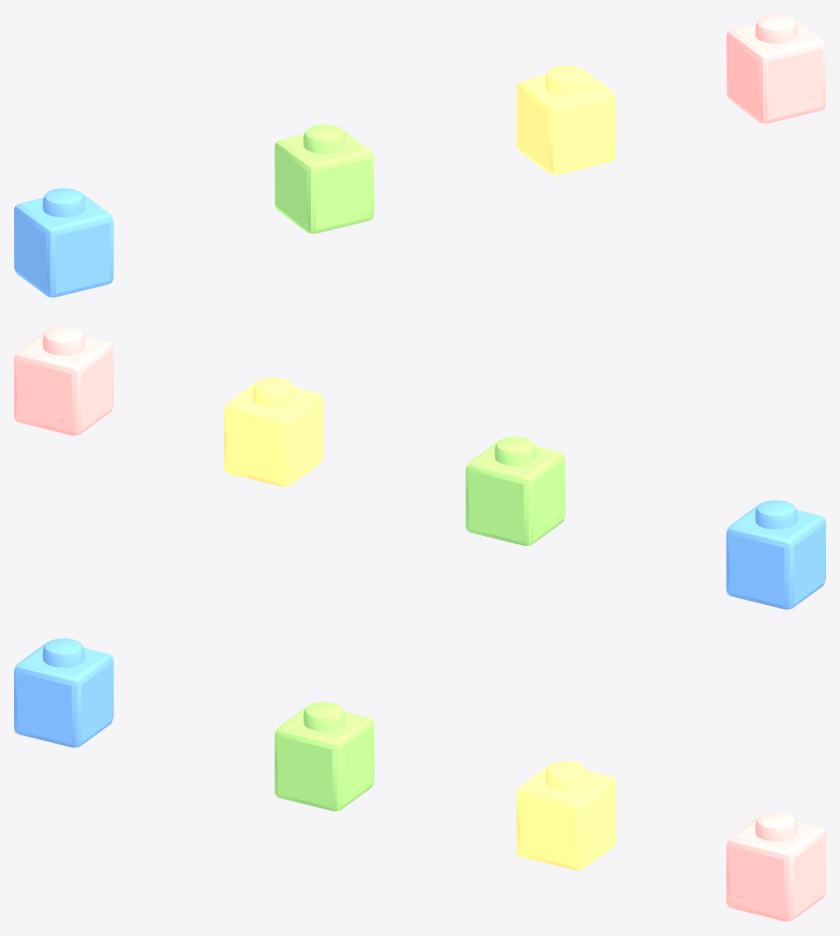
Rendered from Icon1.fbx.
3 renders of one model, top to bottom at view 1: azimuth 30°, elevation 25°; view 2: azimuth 150°, elevation 25°; view 3: azimuth 330°, elevation 25°, orthographic.
Visible parts, largest first — view 1: Cube-Green-Healer-Lv1, Cube-Red-Viking-Lv1, Cube-Yellow-Archer-Lv1, Cube-Blue-Wizard-Lv1; view 2: Cube-Green-Healer-Lv1, Cube-Red-Viking-Lv1, Cube-Yellow-Archer-Lv1, Cube-Blue-Wizard-Lv1; view 3: Cube-Green-Healer-Lv1, Cube-Blue-Wizard-Lv1, Cube-Yellow-Archer-Lv1, Cube-Red-Viking-Lv1.
Part boxes in pixels (bbox=[...]): Cube-Green-Healer-Lv1: bbox=[274, 124, 374, 233]; Cube-Red-Viking-Lv1: bbox=[726, 14, 825, 123]; Cube-Yellow-Archer-Lv1: bbox=[516, 65, 615, 174]; Cube-Blue-Wizard-Lv1: bbox=[14, 188, 113, 297]; Cube-Green-Healer-Lv1: bbox=[465, 436, 565, 545]; Cube-Red-Viking-Lv1: bbox=[14, 326, 113, 435]; Cube-Yellow-Archer-Lv1: bbox=[224, 377, 323, 486]; Cube-Blue-Wizard-Lv1: bbox=[726, 500, 825, 609]; Cube-Green-Healer-Lv1: bbox=[274, 702, 374, 811]; Cube-Blue-Wizard-Lv1: bbox=[14, 638, 113, 747]; Cube-Yellow-Archer-Lv1: bbox=[516, 761, 615, 870]; Cube-Red-Viking-Lv1: bbox=[726, 812, 825, 921].
Bounding box in the file's own units: 3.83 × 0.3999 × 0.3276.
